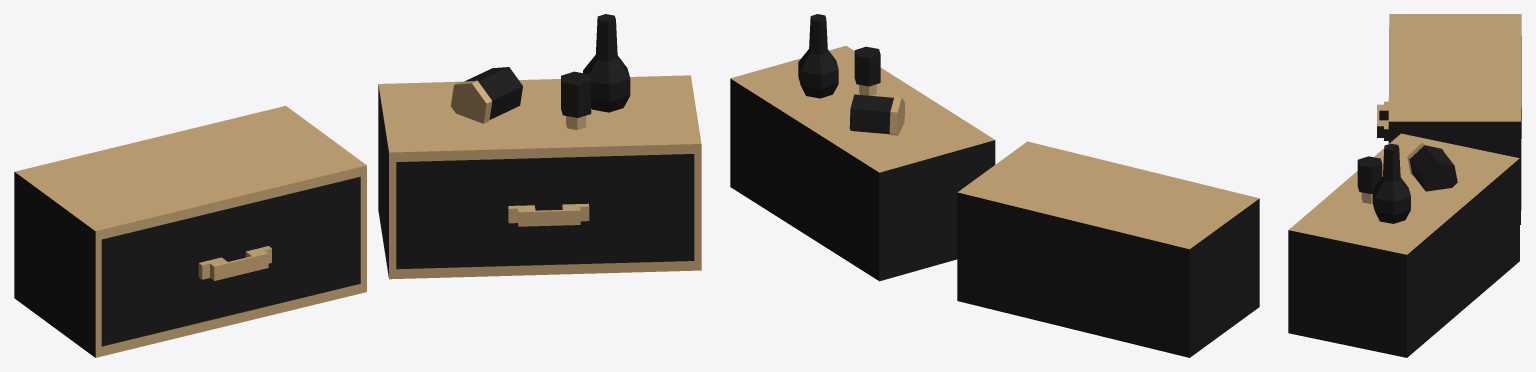
The model's file is b_komodin.obj.
The picture shows the model from 3 angles, left to right: view 1: azimuth 30°, elevation 25°; view 2: azimuth 150°, elevation 25°; view 3: azimuth 270°, elevation 25°; orthographic projection. The views are drawn at different scales.
Visible parts, largest first — view 1: body_care_products.015_m_black, body_care_products.015_m_açıkahşap; view 2: body_care_products.015_m_black, body_care_products.015_m_açıkahşap; view 3: body_care_products.015_m_black, body_care_products.015_m_açıkahşap.
Boxes of the visible parts, x1=… form: body_care_products.015_m_black: x1=14, y1=14, x2=694, y2=357; body_care_products.015_m_açıkahşap: x1=15, y1=75, x2=701, y2=357; body_care_products.015_m_black: x1=730, y1=14, x2=1259, y2=357; body_care_products.015_m_açıkahşap: x1=730, y1=45, x2=1259, y2=249; body_care_products.015_m_black: x1=1288, y1=36, x2=1521, y2=357; body_care_products.015_m_açıkahşap: x1=1289, y1=14, x2=1521, y2=254.
Bounding box in the file's own units: 36.02 × 12.12 × 14.74.
